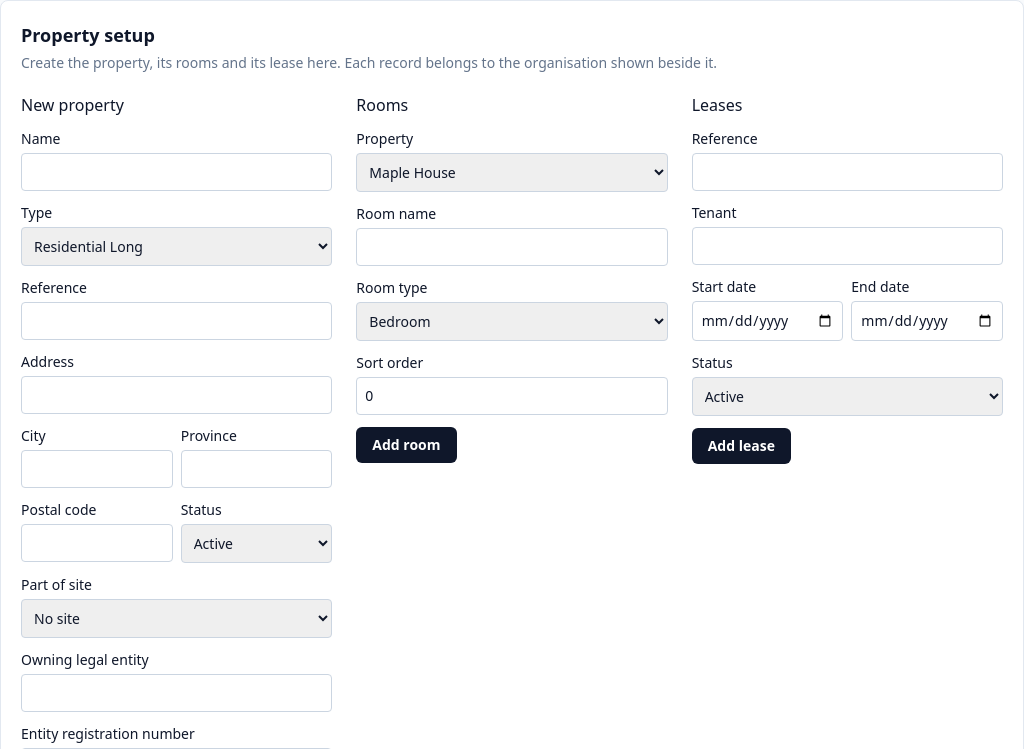
SetupPanel › creates rooms and leases against the selected property
The image size is (1024, 749).
Select "Maple House" in the dropdown labelled "Property" at (512, 172), box [356,153,668,192]
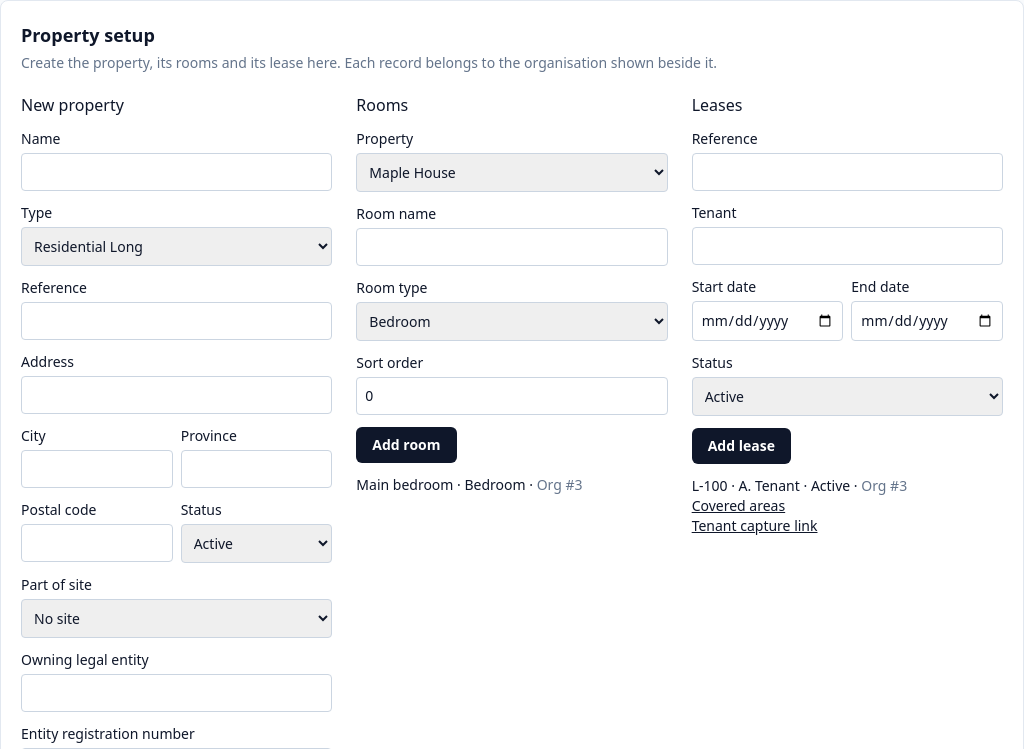
Type "Kitchen" into the field labelled "Room name".
click(512, 247); type("Kitchen")  # box [356,228,668,266]
Select "Kitchen" in the dropdown labelled "Room type" at (512, 322), box [356,302,668,341]
Click the button "Add room".
click(406, 445)  # box [356,427,456,463]
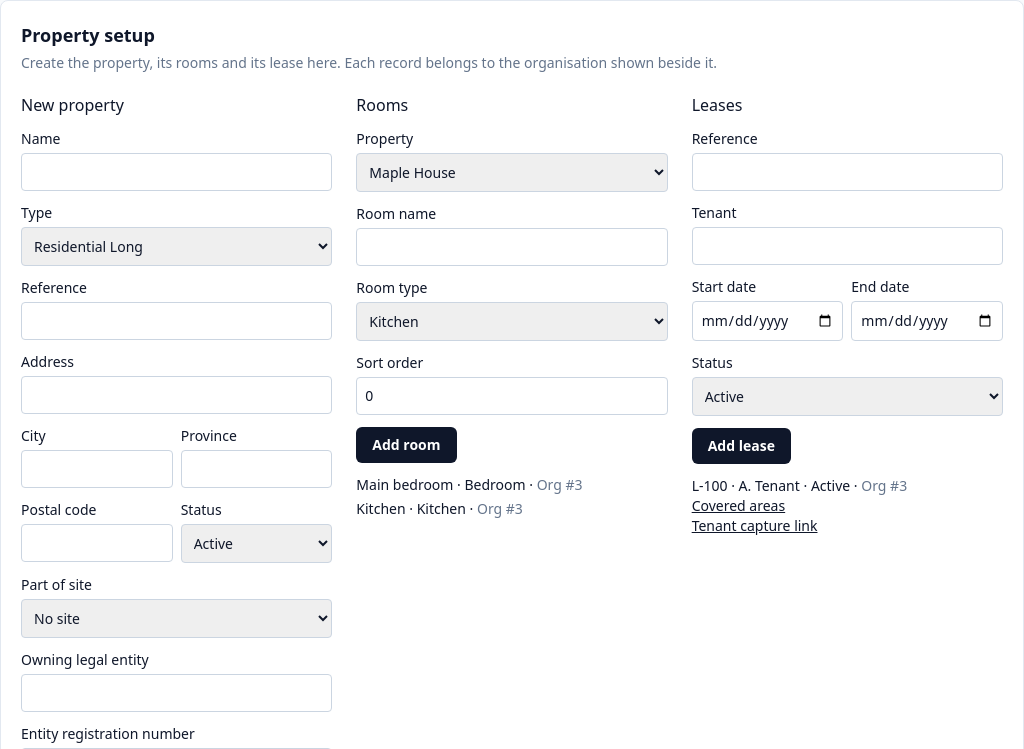
Type "L-200" into the field labelled "Reference" below "Leases".
click(847, 172); type("L-200")  # box [692,153,1003,191]
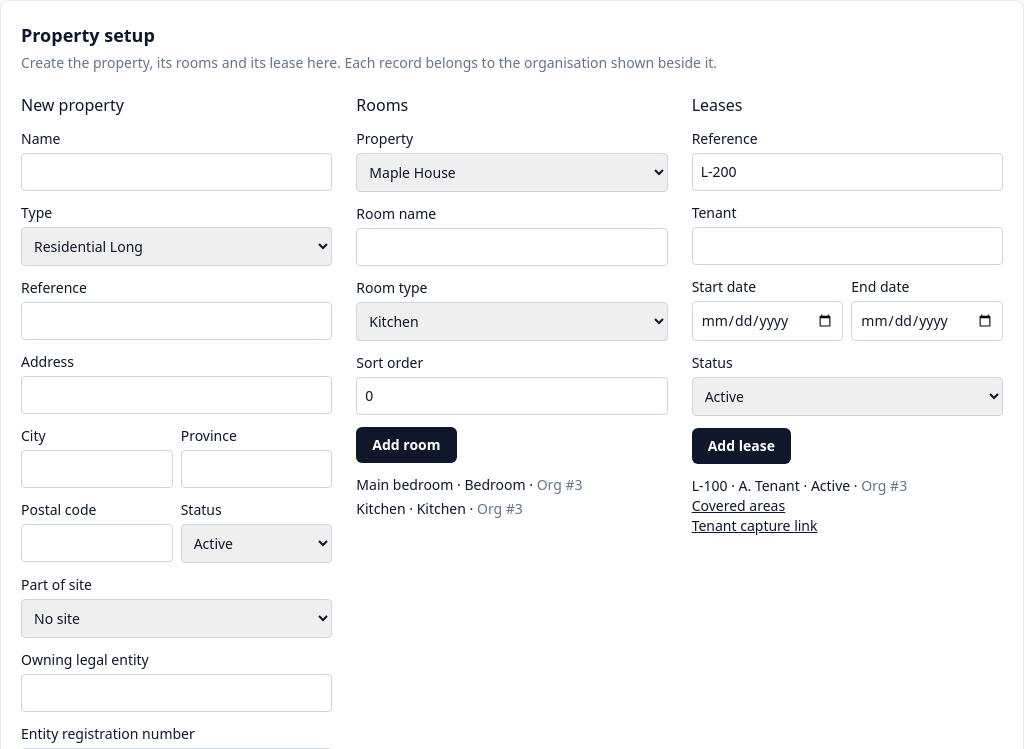
Type "B. Tenant" into the field labelled "Tenant".
click(847, 246); type("B. Tenant")  # box [692,227,1003,265]
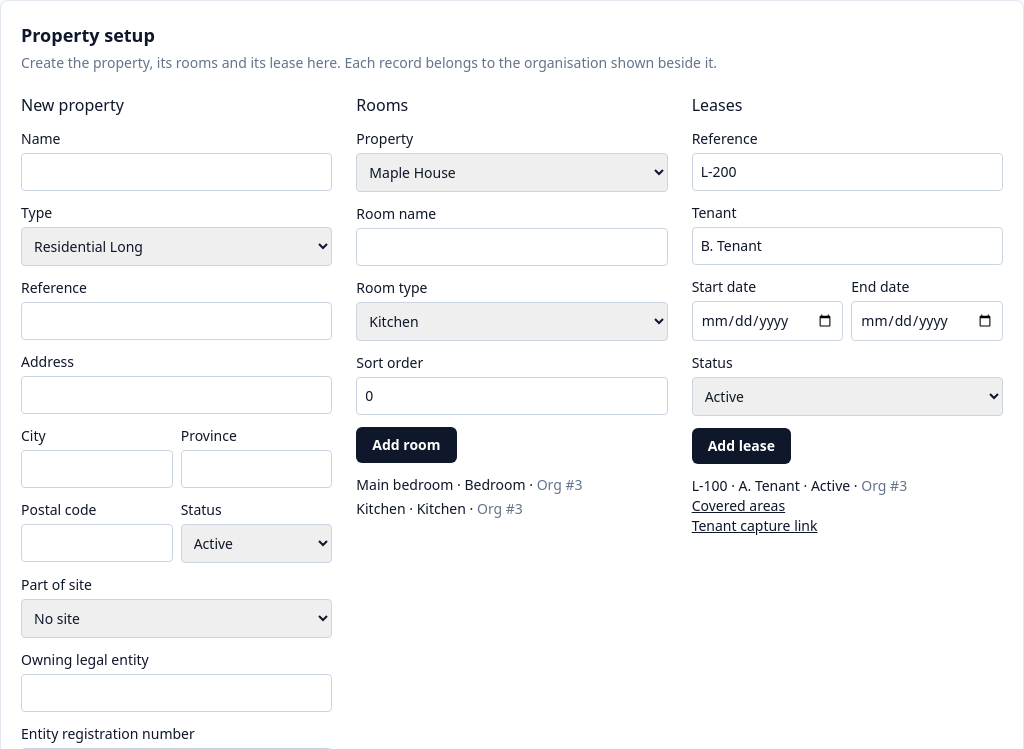
Type "2026-02-01" into the date field labelled "Start date".
click(768, 321); type("2026-02-01")  # box [692,301,843,341]
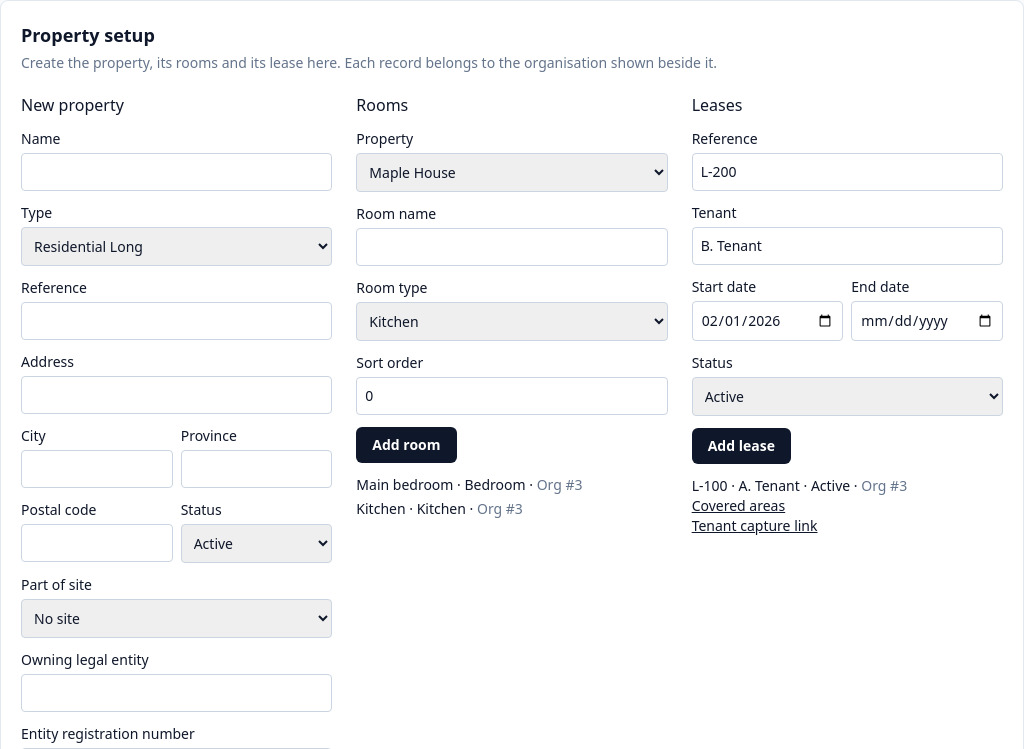
Click the button "Add lease".
click(741, 446)  # box [692,428,791,464]
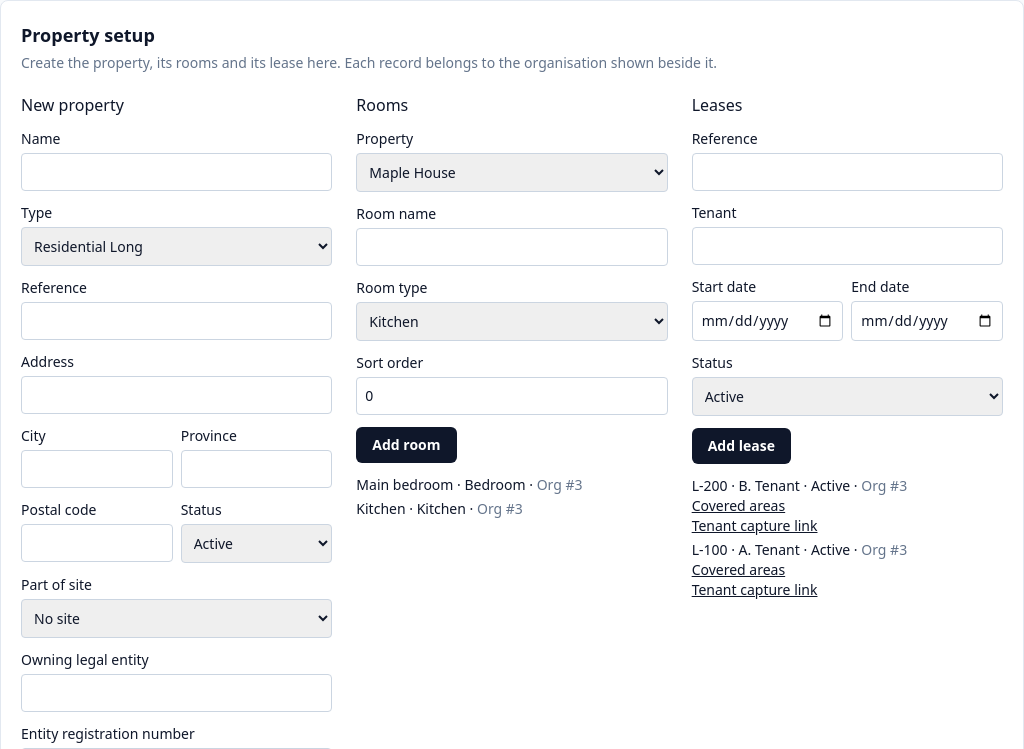
Check: the list item "L-200" is shown, box [692,476,728,495]
